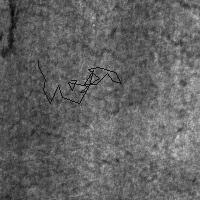crazing: (7, 40, 157, 145), (38, 60, 121, 103)
